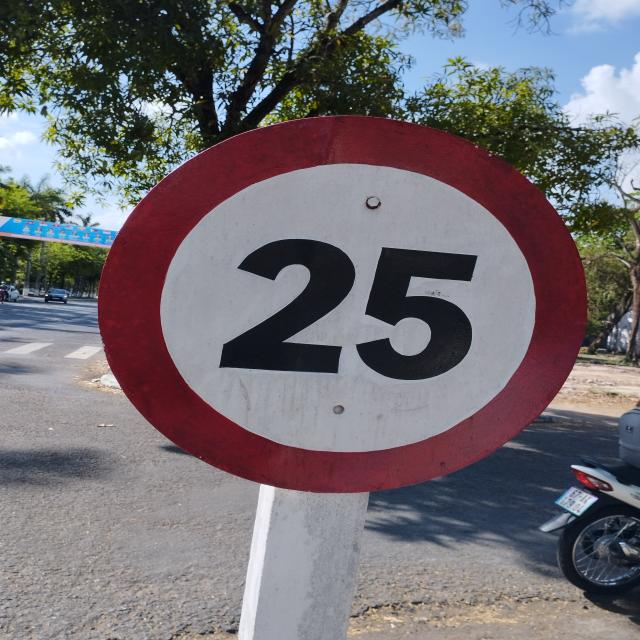Tre_Em: (95, 113, 591, 493)
